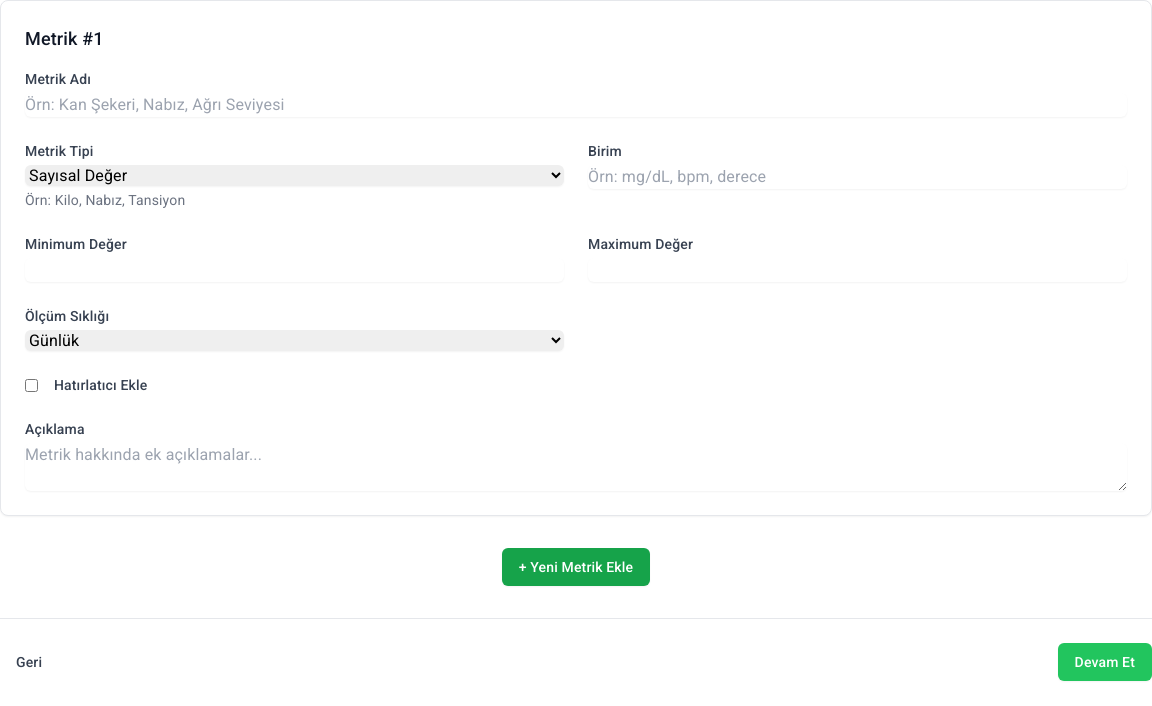
HealthMetricStep › adds new metric when clicking add button
Click the button "+ Yeni Metrik Ekle". click: click(576, 567)
box: [502,548,650,586]
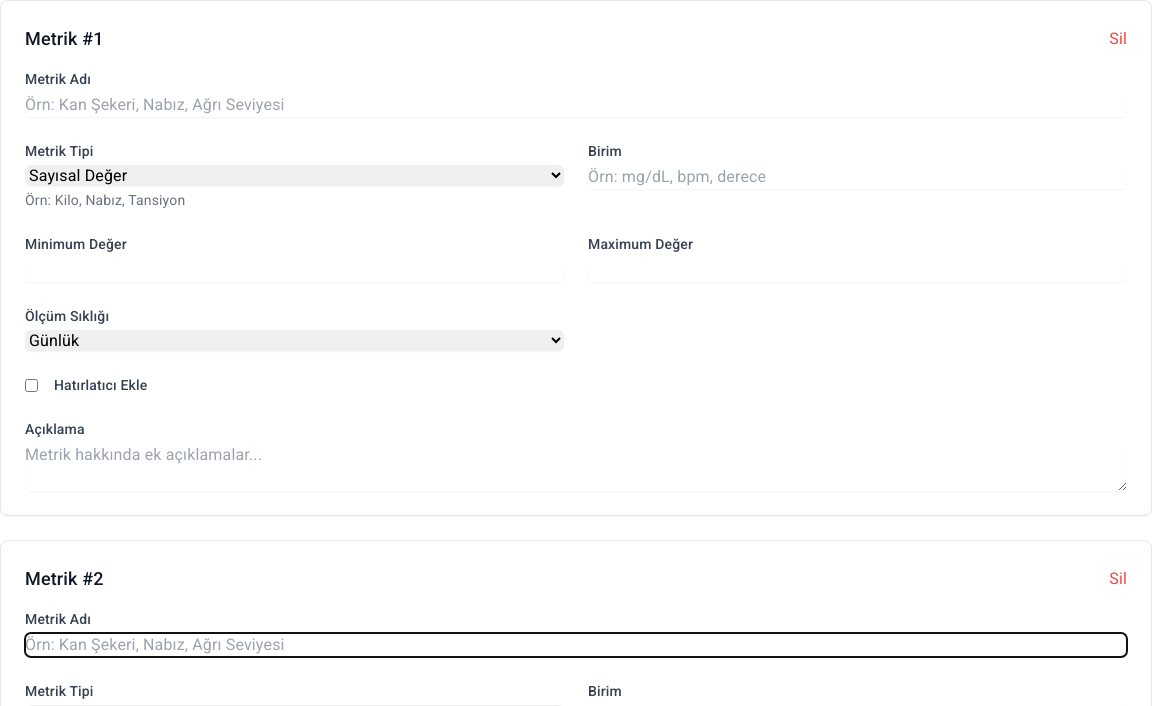
Expected: the number of headings "Metrik #1" is 2, [25,25,104,53]; [25,565,104,593]
